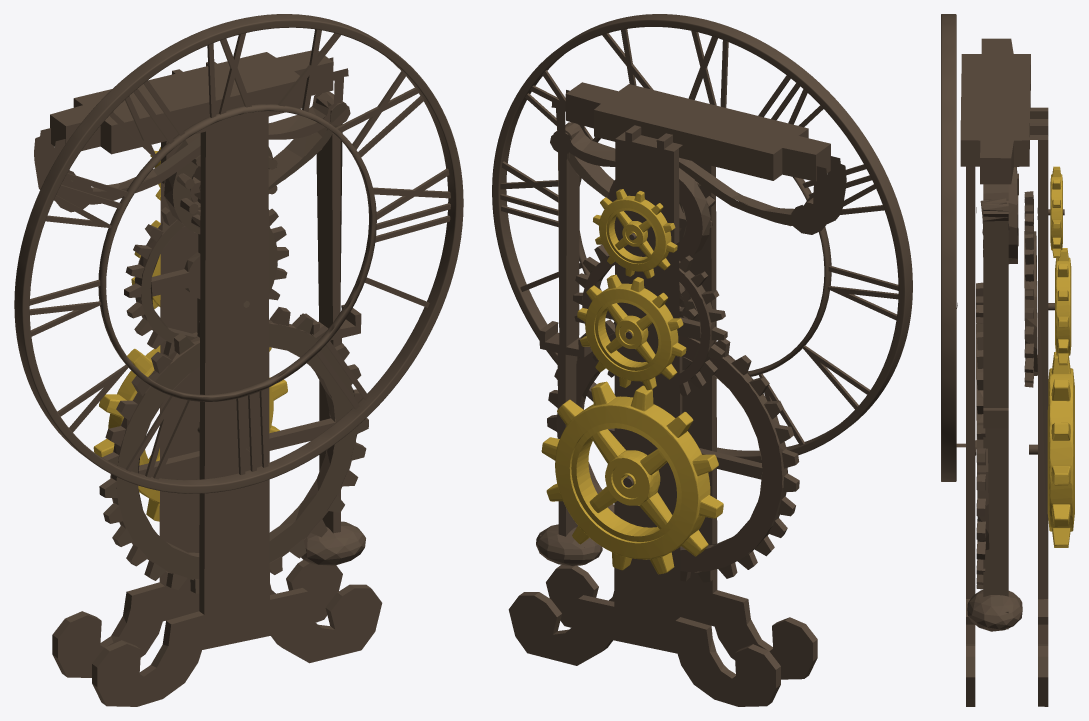
Rendered from Clock Pieces.fbx.
3 renders of one model, left to right at view 1: azimuth 30°, elevation 25°; view 2: azimuth 150°, elevation 25°; view 3: azimuth 270°, elevation 25°, orthographic. The views are drawn at different scales.
Parts seen in each view (by area): view 1: PedestalClock 01, PedestalClock 02, External Ring, Numbers, Internal Ring, bottom key gear; view 2: PedestalClock 01, PedestalClock 02, bottom key gear, External Ring, Numbers, middle key gear, top key gear, Internal Ring; view 3: PedestalClock 01, PedestalClock 02, External Ring, bottom key gear, middle key gear, top key gear.
Boxes of the visible parts, box(x1,y1,x2,y2) form: PedestalClock 01: box(34, 50, 382, 706); PedestalClock 02: box(52, 62, 342, 677); External Ring: box(14, 14, 463, 493); Numbers: box(29, 29, 450, 479); Internal Ring: box(98, 104, 376, 401); bottom key gear: box(93, 345, 287, 521); PedestalClock 01: box(536, 82, 846, 679); PedestalClock 02: box(508, 128, 780, 706); bottom key gear: box(541, 381, 723, 574); External Ring: box(492, 14, 912, 462); Numbers: box(500, 29, 898, 449); middle key gear: box(577, 274, 686, 390); top key gear: box(593, 189, 677, 278); Internal Ring: box(579, 137, 831, 378); PedestalClock 01: box(956, 38, 1037, 706); PedestalClock 02: box(1024, 107, 1064, 706); External Ring: box(941, 14, 956, 481); bottom key gear: box(1047, 352, 1074, 547); middle key gear: box(1055, 248, 1071, 365); top key gear: box(1050, 166, 1062, 257).
Size of the model in its own units: 53.15 by 76.89 by 15.21.
